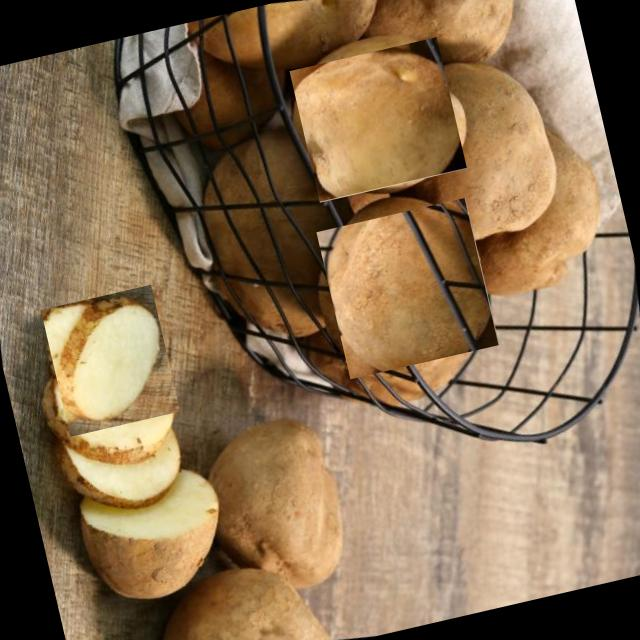potato: (316, 197, 499, 379), (289, 36, 468, 202), (38, 287, 184, 433)
